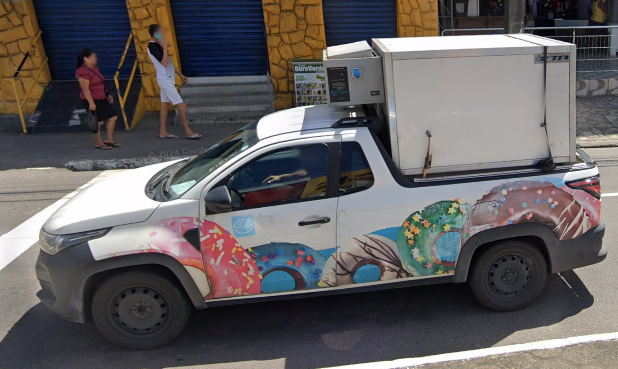car: (36, 91, 609, 361)
